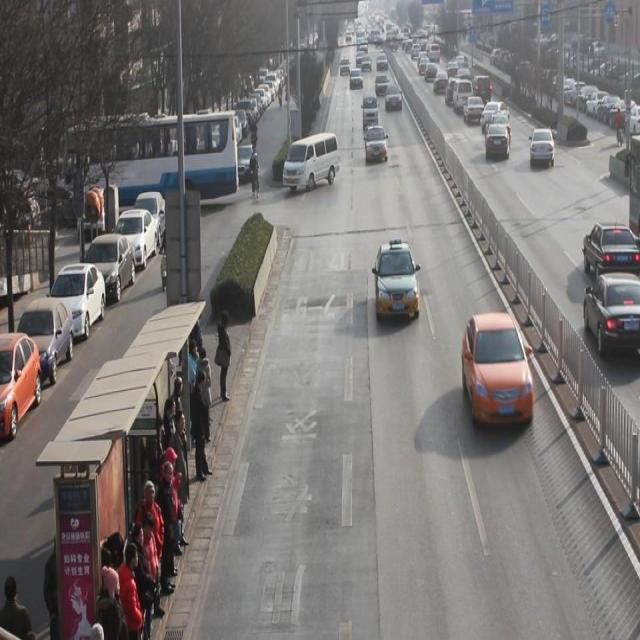car: (464, 313, 536, 431), (584, 271, 640, 357), (584, 220, 640, 286), (375, 243, 421, 321), (531, 128, 556, 168), (486, 113, 513, 149), (366, 124, 390, 164), (482, 100, 511, 132), (487, 122, 510, 160), (472, 74, 493, 107), (464, 95, 486, 124), (445, 76, 464, 108), (385, 84, 404, 113), (434, 70, 451, 96), (455, 68, 473, 91), (376, 74, 392, 98)
truck: (283, 134, 341, 192), (454, 77, 474, 114), (363, 91, 380, 131)
